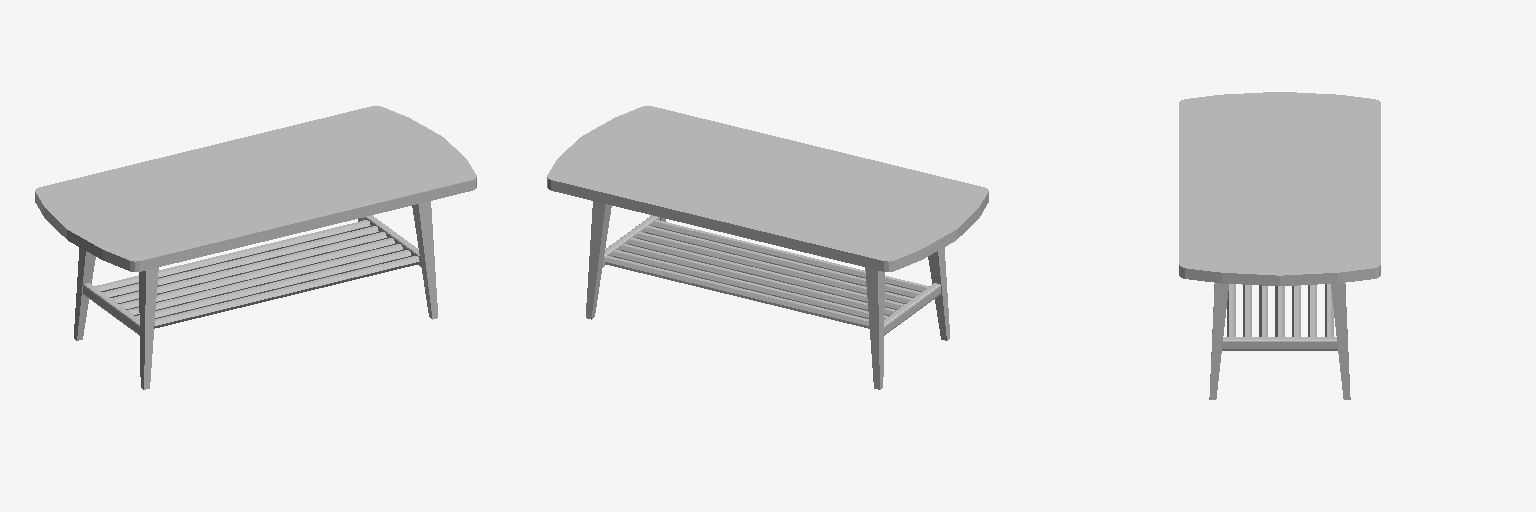
The model's file is sofa_0.obj.
3 renders of one model, left to right at view 1: azimuth 30°, elevation 25°; view 2: azimuth 150°, elevation 25°; view 3: azimuth 270°, elevation 25°, orthographic.
Size of the model in its own units: 283 by 104 by 131.